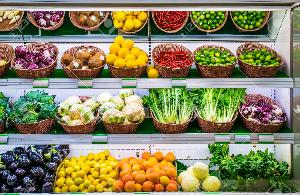bell_pepper: (152, 38, 193, 76), (152, 8, 189, 34)
eggplant: (0, 144, 68, 194)
lemon: (50, 142, 120, 192), (103, 42, 157, 78)
lime: (240, 41, 282, 77), (192, 44, 236, 72), (231, 7, 271, 36), (188, 8, 230, 34)
onion: (116, 144, 178, 194)
